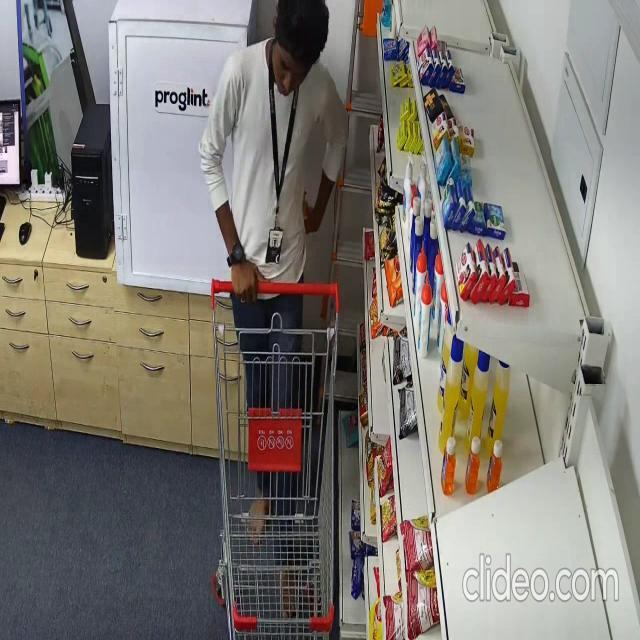Shoplifting: (200, 0, 346, 620)
